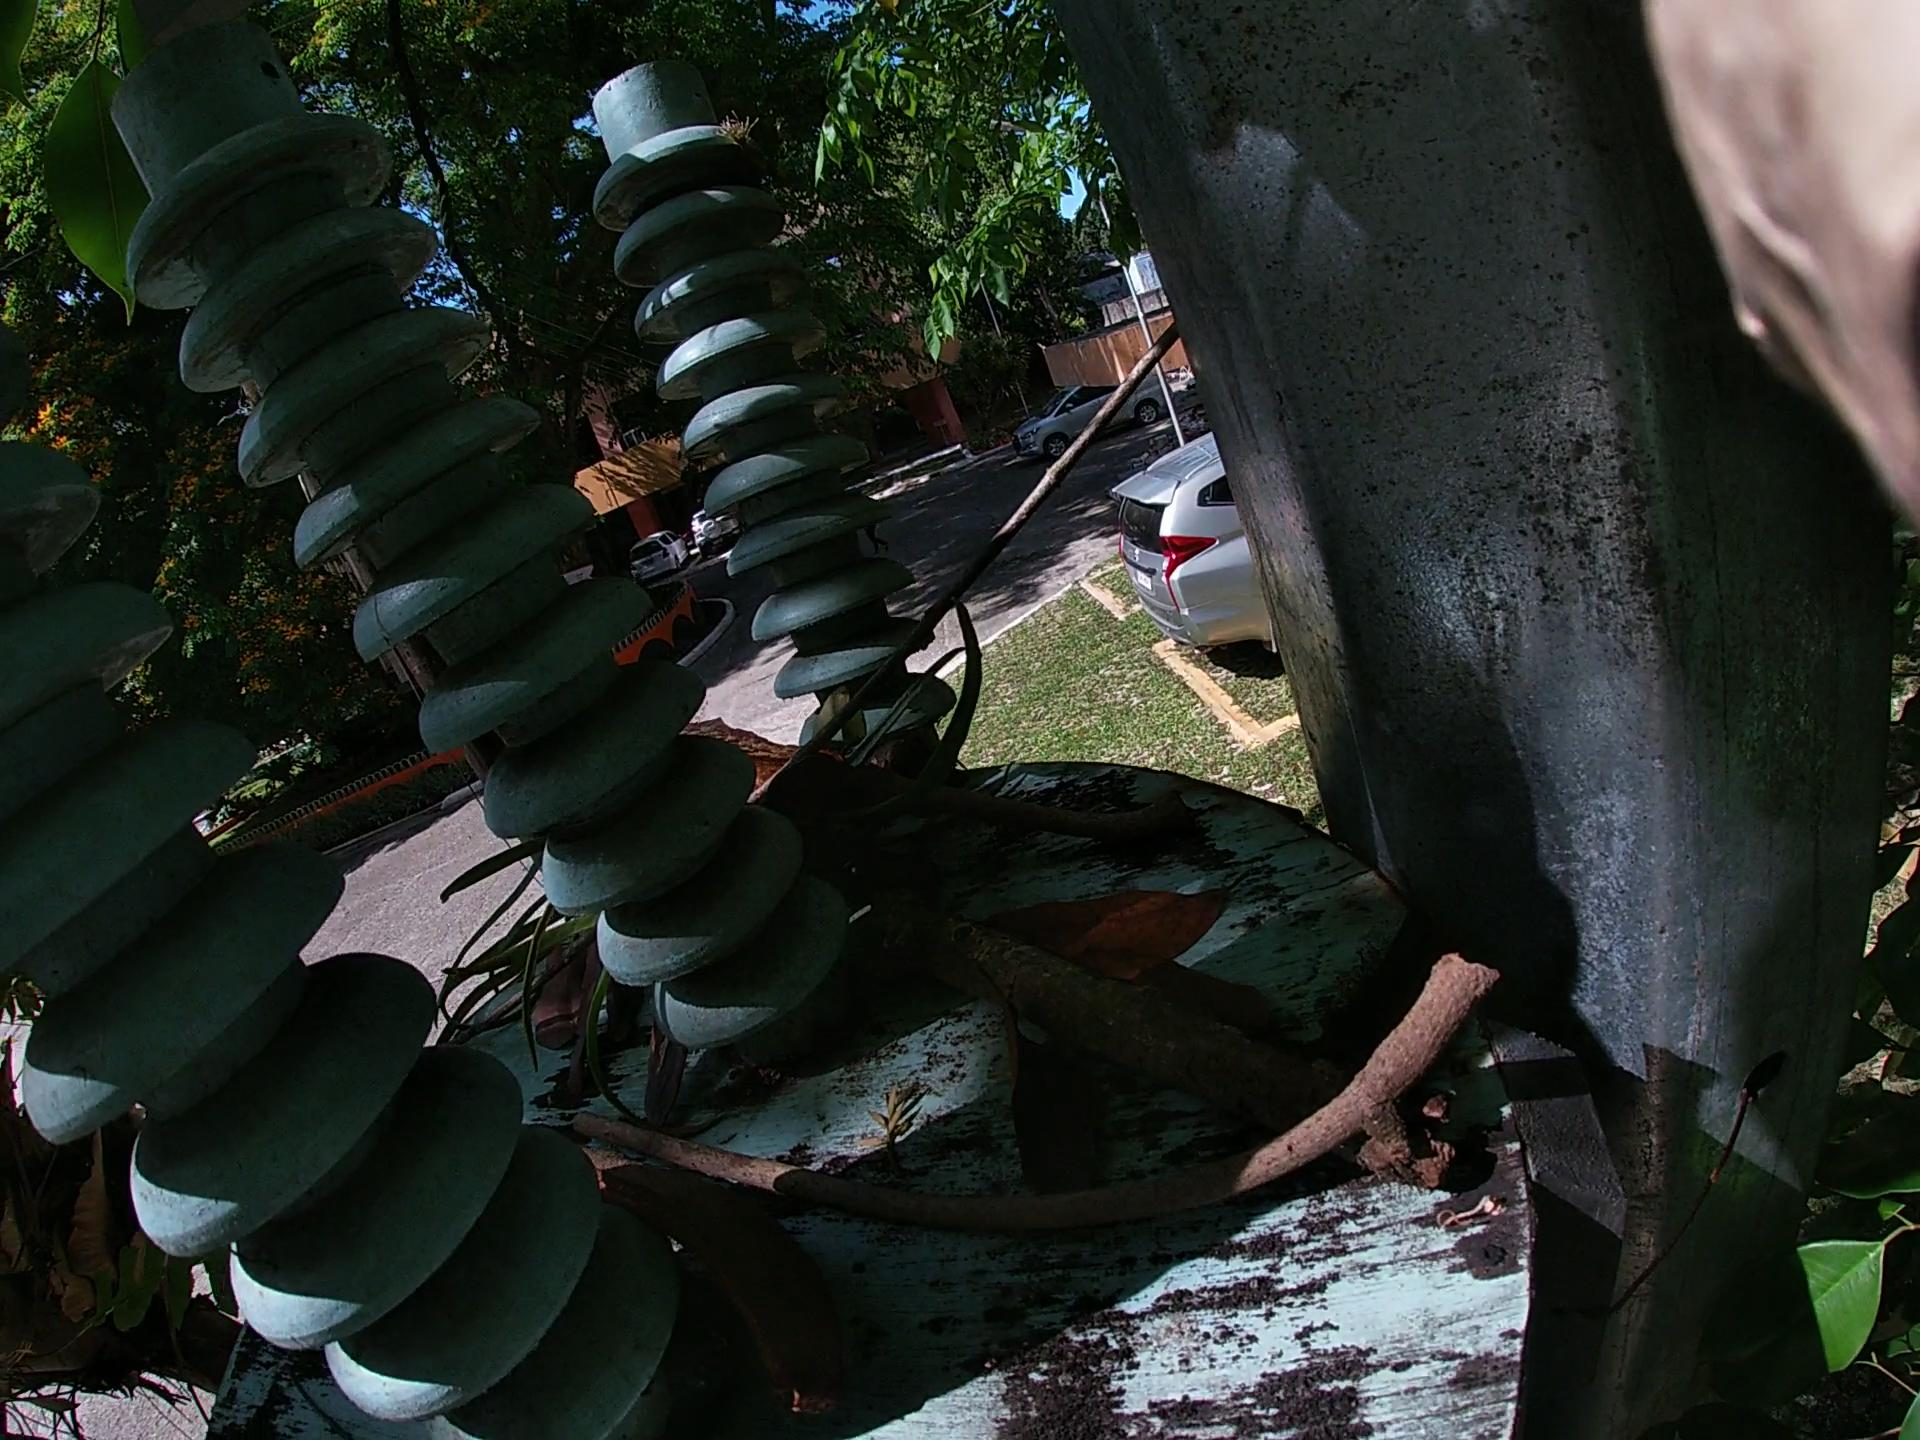branch with leaves: (343, 663, 1185, 1116)
mahogany fruit: (568, 1047, 890, 1395), (679, 573, 927, 809)
tree branch: (633, 342, 1144, 853), (588, 1094, 1392, 1266), (901, 826, 1285, 1147), (765, 735, 1205, 864)
